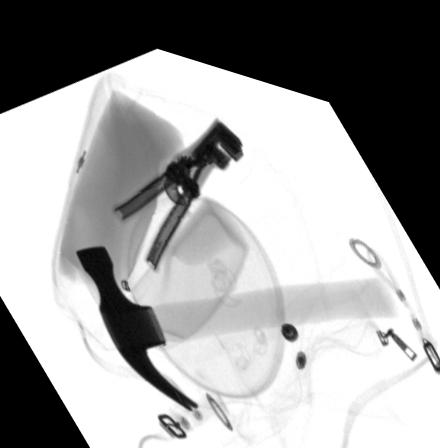Hammer: (74, 237, 397, 400)
Pliers: (109, 104, 244, 264)
